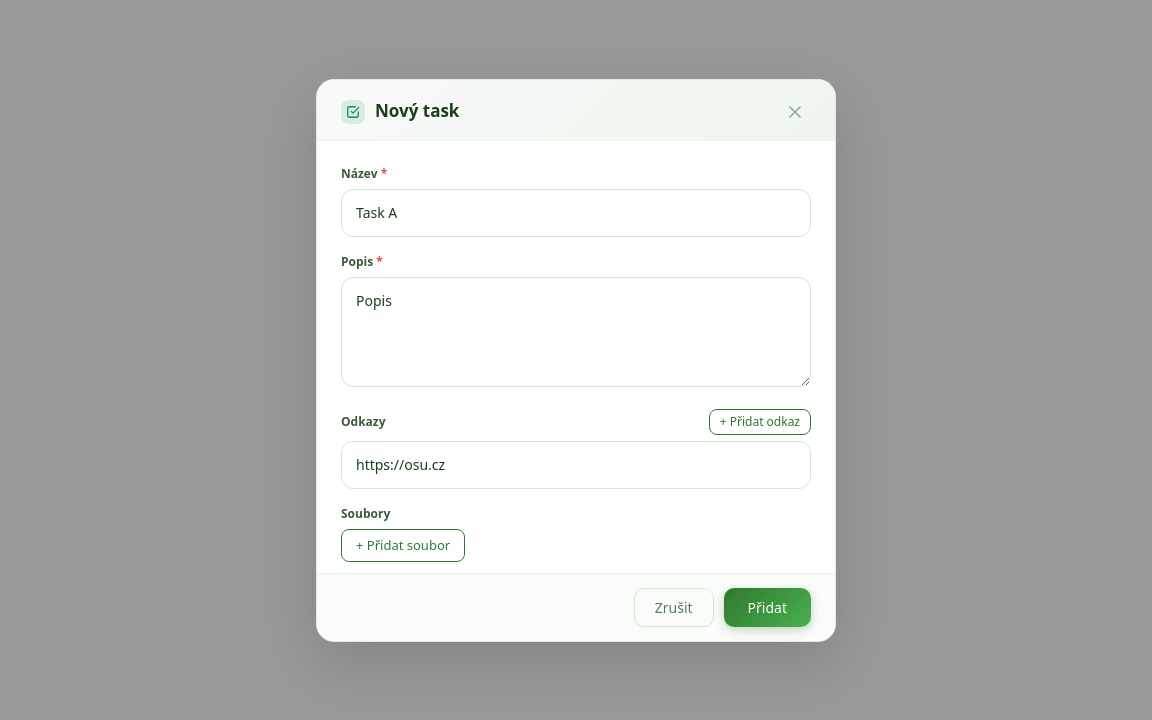
TaskModal › validates invalid expected end date before submit
The width and height of the screenshot is (1152, 720).
Click the button "Přidat". click: x=767, y=607
box: [724,588,811,626]
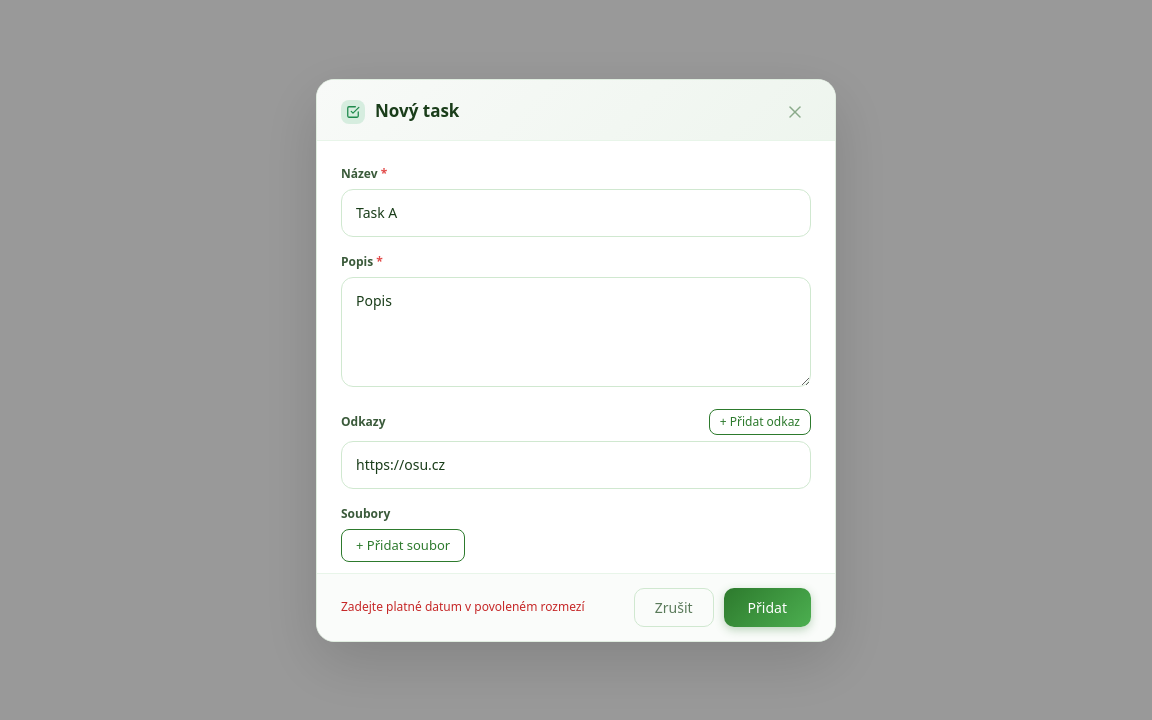
Expected: the text "Zadejte platné datum v povoleném rozmezí" is shown, [341,598,585,616]
